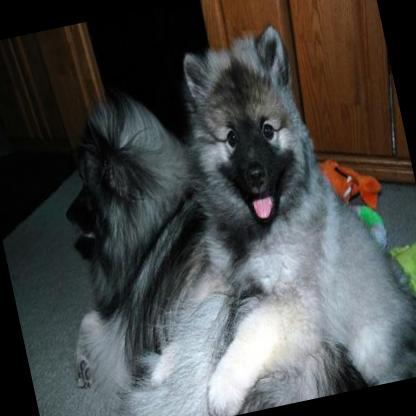keeshond: (0, 46, 369, 416), (129, 3, 416, 414)
